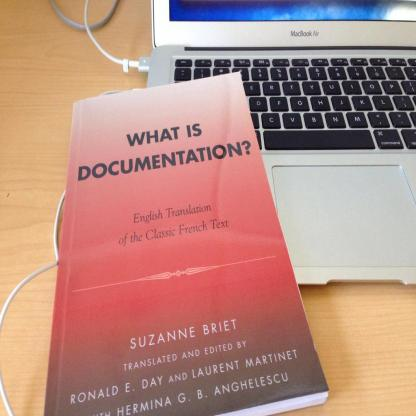board: (149, 0, 416, 284)
